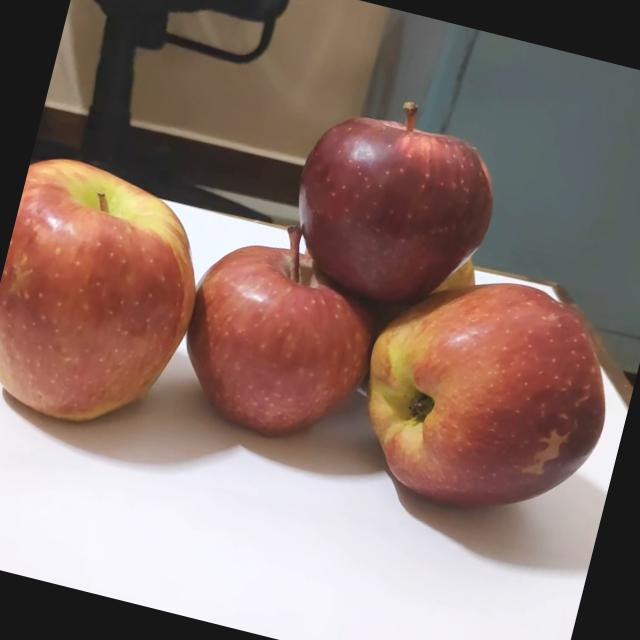apple: (344, 245, 640, 541), (0, 137, 236, 445), (168, 196, 418, 461), (283, 58, 536, 318), (428, 230, 511, 316)
